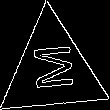M_W: (28, 44, 77, 95)
